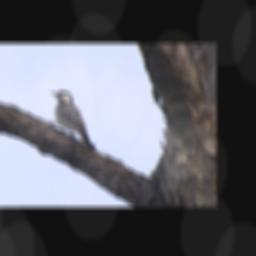Woodpecker: (44, 87, 99, 153)
